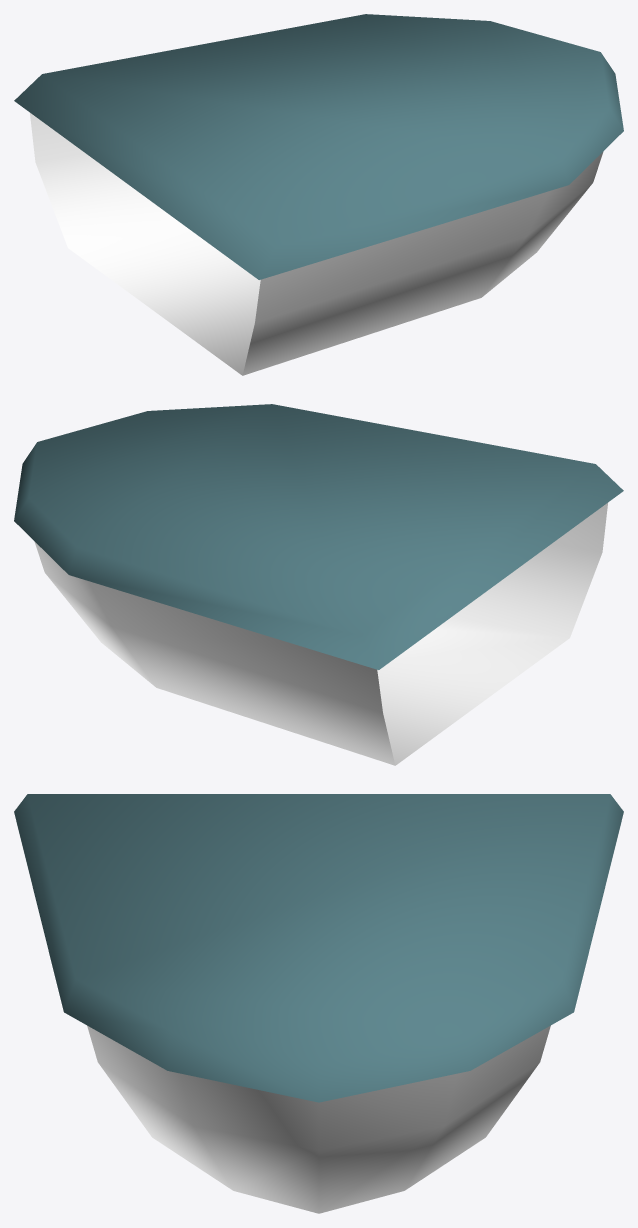
File: SM_Toilet_01.fbx
The picture shows the model from 3 angles, top to bottom: view 1: azimuth 30°, elevation 25°; view 2: azimuth 150°, elevation 25°; view 3: azimuth 270°, elevation 25°; orthographic projection. The views are drawn at different scales.
Parts seen in each view (by area): view 1: SM_Toilet_01; view 2: SM_Toilet_01; view 3: SM_Toilet_01.
Part boxes in pixels (x1=…): SM_Toilet_01: x1=14, y1=14, x2=623, y2=375; SM_Toilet_01: x1=14, y1=404, x2=623, y2=765; SM_Toilet_01: x1=14, y1=794, x2=623, y2=1213.
Size of the model in its own units: 64.28 by 19.4 by 56.97.
1 material, 1 textured.
